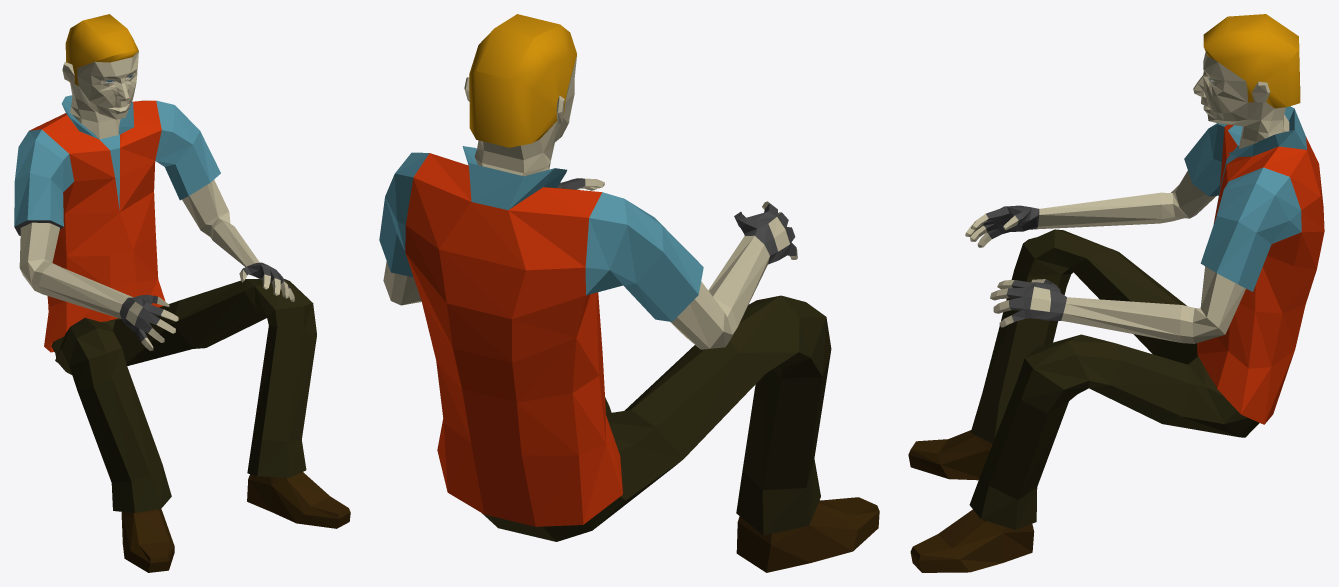
File: sittingworker.dae
The picture shows the model from 3 angles, left to right: view 1: azimuth 30°, elevation 25°; view 2: azimuth 150°, elevation 25°; view 3: azimuth 270°, elevation 25°; orthographic projection. The views are drawn at different scales.
Visible parts, largest first — view 1: polymsh2_Pts_Material__7__Surf, polymsh2_Pts_Material__2__Surf, polymsh2_Pts_Material__8__Surf, polymsh2_Pts_Material__3__Surf, polymsh2_Pts_Material__6__Surf, polymsh2_Pts_Material__5__Surf, polymsh2_Pts_Material__4__Surf; view 2: polymsh2_Pts_Material__2__Surf, polymsh2_Pts_Material__7__Surf, polymsh2_Pts_Material__3__Surf, polymsh2_Pts_Material__5__Surf, polymsh2_Pts_Material__8__Surf, polymsh2_Pts_Material__6__Surf, polymsh2_Pts_Material__4__Surf; view 3: polymsh2_Pts_Material__7__Surf, polymsh2_Pts_Material__8__Surf, polymsh2_Pts_Material__2__Surf, polymsh2_Pts_Material__3__Surf, polymsh2_Pts_Material__6__Surf, polymsh2_Pts_Material__5__Surf, polymsh2_Pts_Material__4__Surf.
Part boxes in pixels (x1,y1,x2,y2): polymsh2_Pts_Material__7__Surf: (51,279,316,512); polymsh2_Pts_Material__2__Surf: (29,100,165,352); polymsh2_Pts_Material__8__Surf: (19,51,294,350); polymsh2_Pts_Material__3__Surf: (14,74,220,226); polymsh2_Pts_Material__6__Surf: (121,472,350,572); polymsh2_Pts_Material__5__Surf: (65,14,138,85); polymsh2_Pts_Material__4__Surf: (14,220,289,341); polymsh2_Pts_Material__2__Surf: (405,153,622,526); polymsh2_Pts_Material__7__Surf: (482,295,831,541); polymsh2_Pts_Material__3__Surf: (379,146,703,321); polymsh2_Pts_Material__5__Surf: (469,14,576,147); polymsh2_Pts_Material__8__Surf: (383,55,797,349); polymsh2_Pts_Material__6__Surf: (736,497,879,572); polymsh2_Pts_Material__4__Surf: (557,178,796,264); polymsh2_Pts_Material__7__Surf: (969,229,1259,529); polymsh2_Pts_Material__8__Surf: (965,52,1289,343); polymsh2_Pts_Material__2__Surf: (1197,124,1324,424); polymsh2_Pts_Material__3__Surf: (1184,78,1306,291); polymsh2_Pts_Material__6__Surf: (908,430,1034,572); polymsh2_Pts_Material__5__Surf: (1203,14,1300,108); polymsh2_Pts_Material__4__Surf: (983,205,1066,321).
Bounding box in the file's own units: 6.82 × 11.55 × 8.85.
